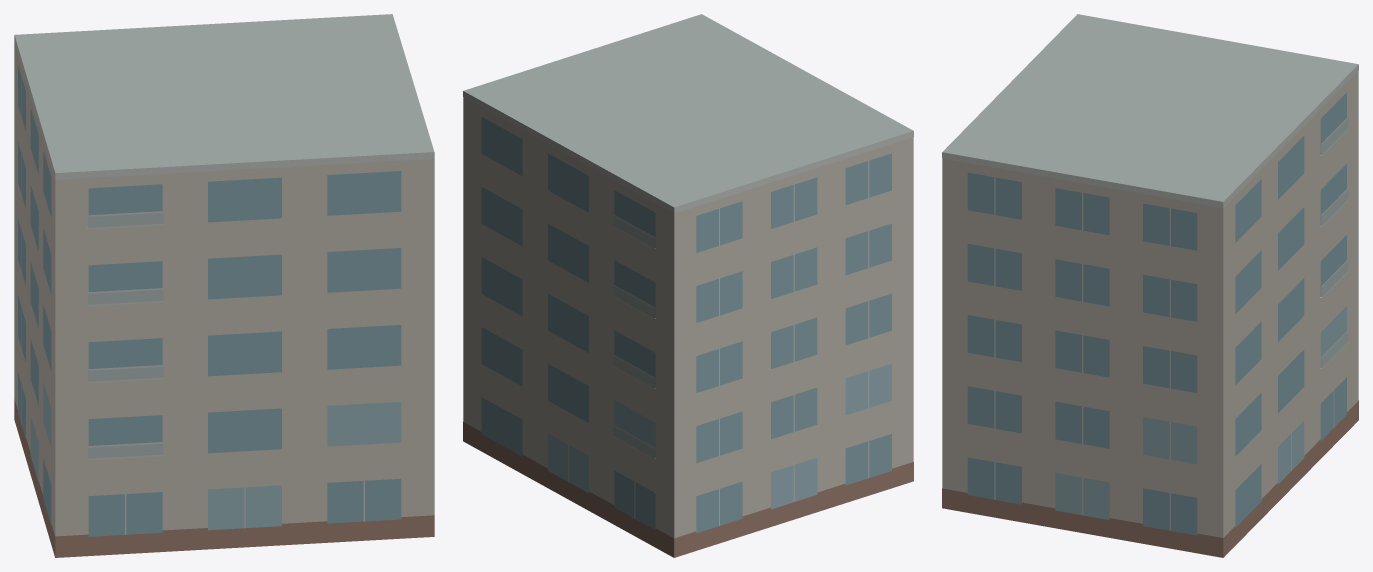
The model's file is survey-upis-32725911.glb.
3 views of the same model, side by side, from view 1: azimuth 30°, elevation 25°; view 2: azimuth 150°, elevation 25°; view 3: azimuth 270°, elevation 25° (orthographic). The views are drawn at different scales.
Parts seen in each view (by area): view 1: survey-upis-32725911.tmp; view 2: survey-upis-32725911.tmp; view 3: survey-upis-32725911.tmp.
Boxes of the visible parts, left/top/right/bottom form: survey-upis-32725911.tmp: left=14, top=14, right=434, bottom=557; survey-upis-32725911.tmp: left=463, top=14, right=913, bottom=557; survey-upis-32725911.tmp: left=942, top=14, right=1358, bottom=557.
Size of the model in its own units: 15.8 by 13.95 by 14.81.
